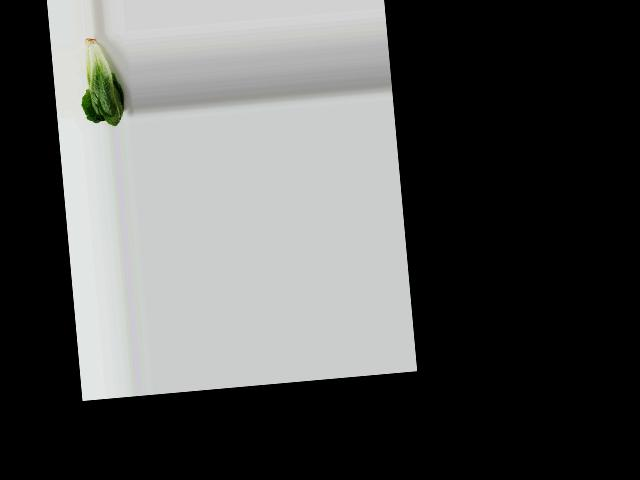lettuce: (74, 31, 128, 129)
